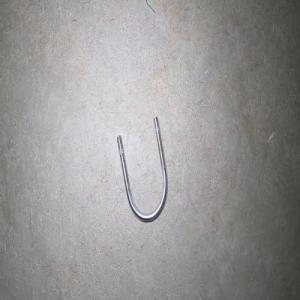ClampPart: (115, 115, 167, 223)
